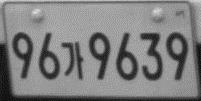3: (139, 31, 163, 81)
6: (115, 31, 138, 80), (37, 31, 60, 79)
9: (88, 31, 111, 80), (165, 31, 188, 80), (11, 31, 34, 78)
가: (60, 40, 84, 80)
